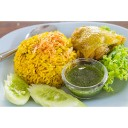briyani: (15, 36, 73, 84)
